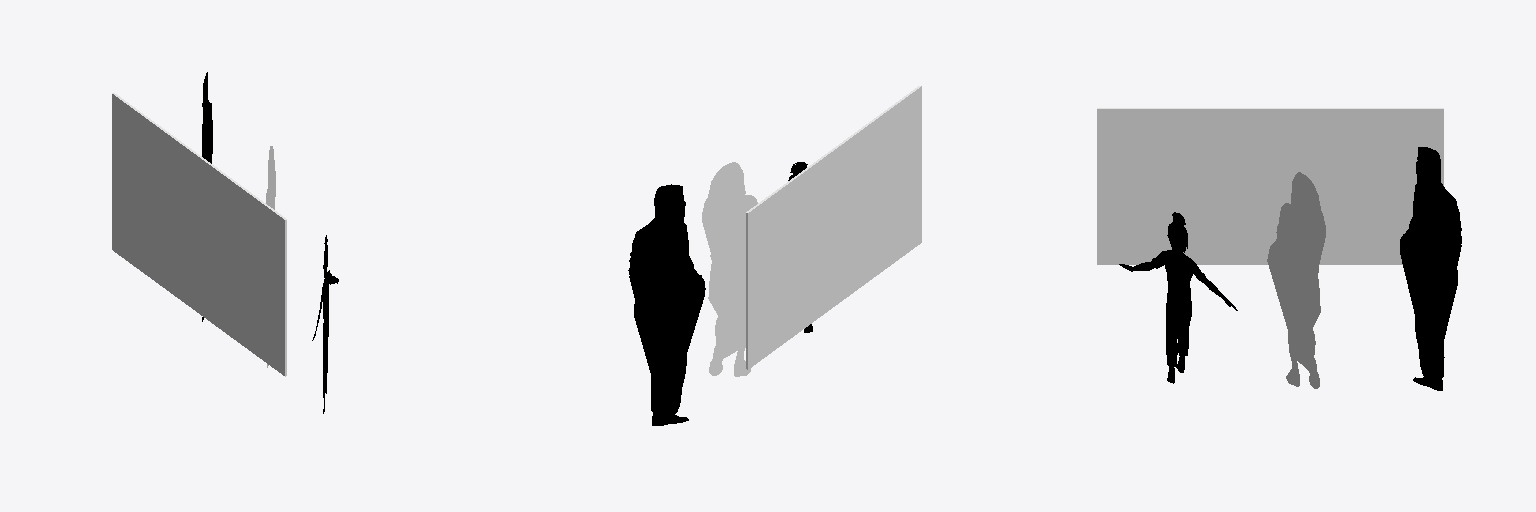
3 views of the same model, side by side, from view 1: azimuth 30°, elevation 25°; view 2: azimuth 150°, elevation 25°; view 3: azimuth 270°, elevation 25° (orthographic).
Visible parts, largest first — view 1: Mesh4 Model, Mesh3 G_2d_silhouette_girl__balancing1 Model, Mesh2 G_2d_silhouette_man_with_hands_in_pockets1 Model; view 2: Mesh4 Model, Mesh2 G_2d_silhouette_man_with_hands_in_pockets1 Model, Mesh1 G_2d_silhouette__woman_walking_in_a_skirt1 Model; view 3: Mesh4 Model, Mesh2 G_2d_silhouette_man_with_hands_in_pockets1 Model, Mesh1 G_2d_silhouette__woman_walking_in_a_skirt1 Model, Mesh3 G_2d_silhouette_girl__balancing1 Model.
Boxes of the visible parts, x1,y1,x2,y2 form: Mesh4 Model: [112, 93, 286, 376]; Mesh3 G_2d_silhouette_girl__balancing1 Model: [312, 235, 338, 413]; Mesh2 G_2d_silhouette_man_with_hands_in_pockets1 Model: [202, 72, 212, 321]; Mesh4 Model: [746, 86, 921, 369]; Mesh2 G_2d_silhouette_man_with_hands_in_pockets1 Model: [628, 184, 705, 425]; Mesh1 G_2d_silhouette__woman_walking_in_a_skirt1 Model: [702, 162, 757, 376]; Mesh4 Model: [1097, 108, 1443, 264]; Mesh2 G_2d_silhouette_man_with_hands_in_pockets1 Model: [1400, 147, 1461, 390]; Mesh1 G_2d_silhouette__woman_walking_in_a_skirt1 Model: [1267, 172, 1325, 388]; Mesh3 G_2d_silhouette_girl__balancing1 Model: [1119, 212, 1237, 383].
Bounding box in the file's own units: 102 × 187 × 258.